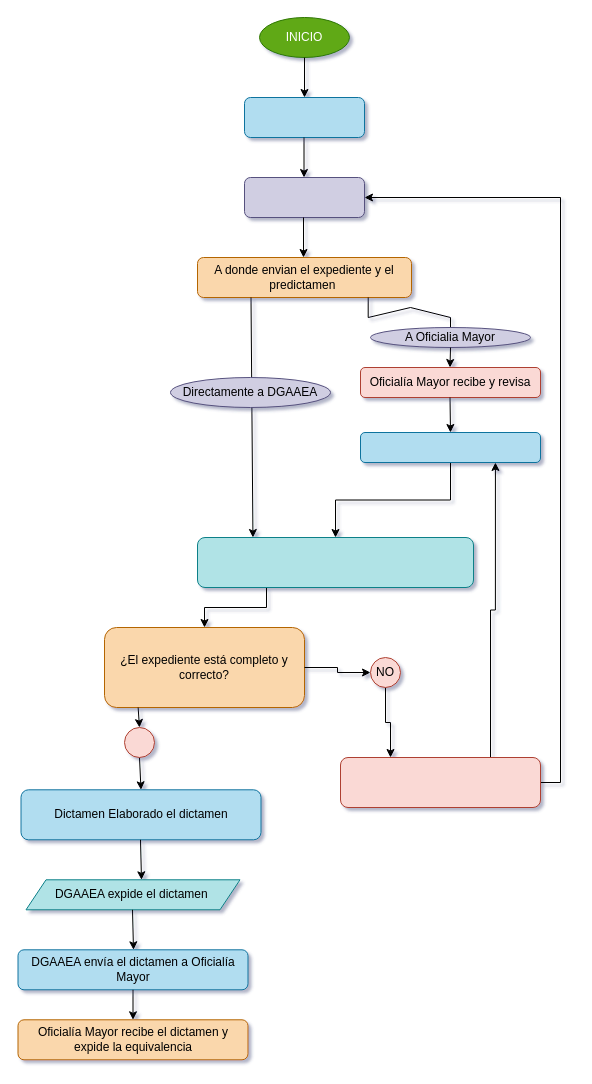
Image size: 592x1084. Some labels were removed from this diagram. Here are the shapes that lost their labels. From the top down, the box of each, then its label:
(244, 96, 364, 138): Estudiante
(244, 176, 364, 218): Entidad Académica
(360, 432, 540, 462): Oficialía Mayor remite otro pre-dictamen
(196, 536, 474, 588): DGAAEA recibe y revisa el expediente y los predictamen
(124, 726, 154, 758): SI
(340, 756, 540, 808): Solicitar correcciones
